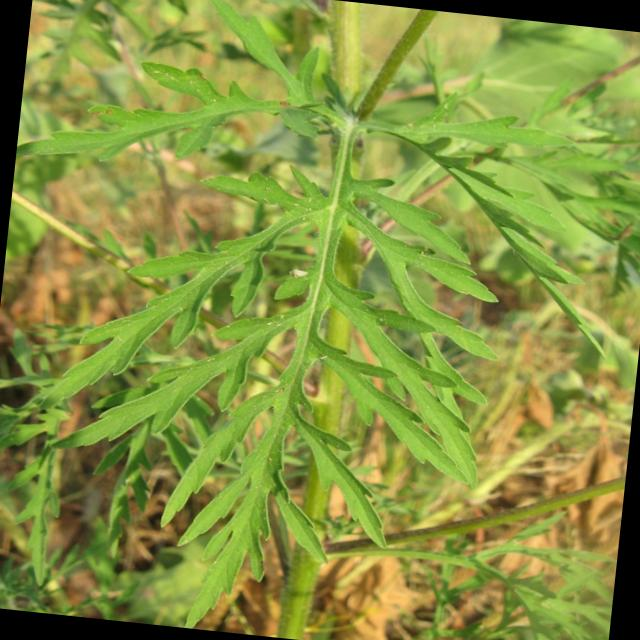ambrosia: (85, 32, 512, 568)
